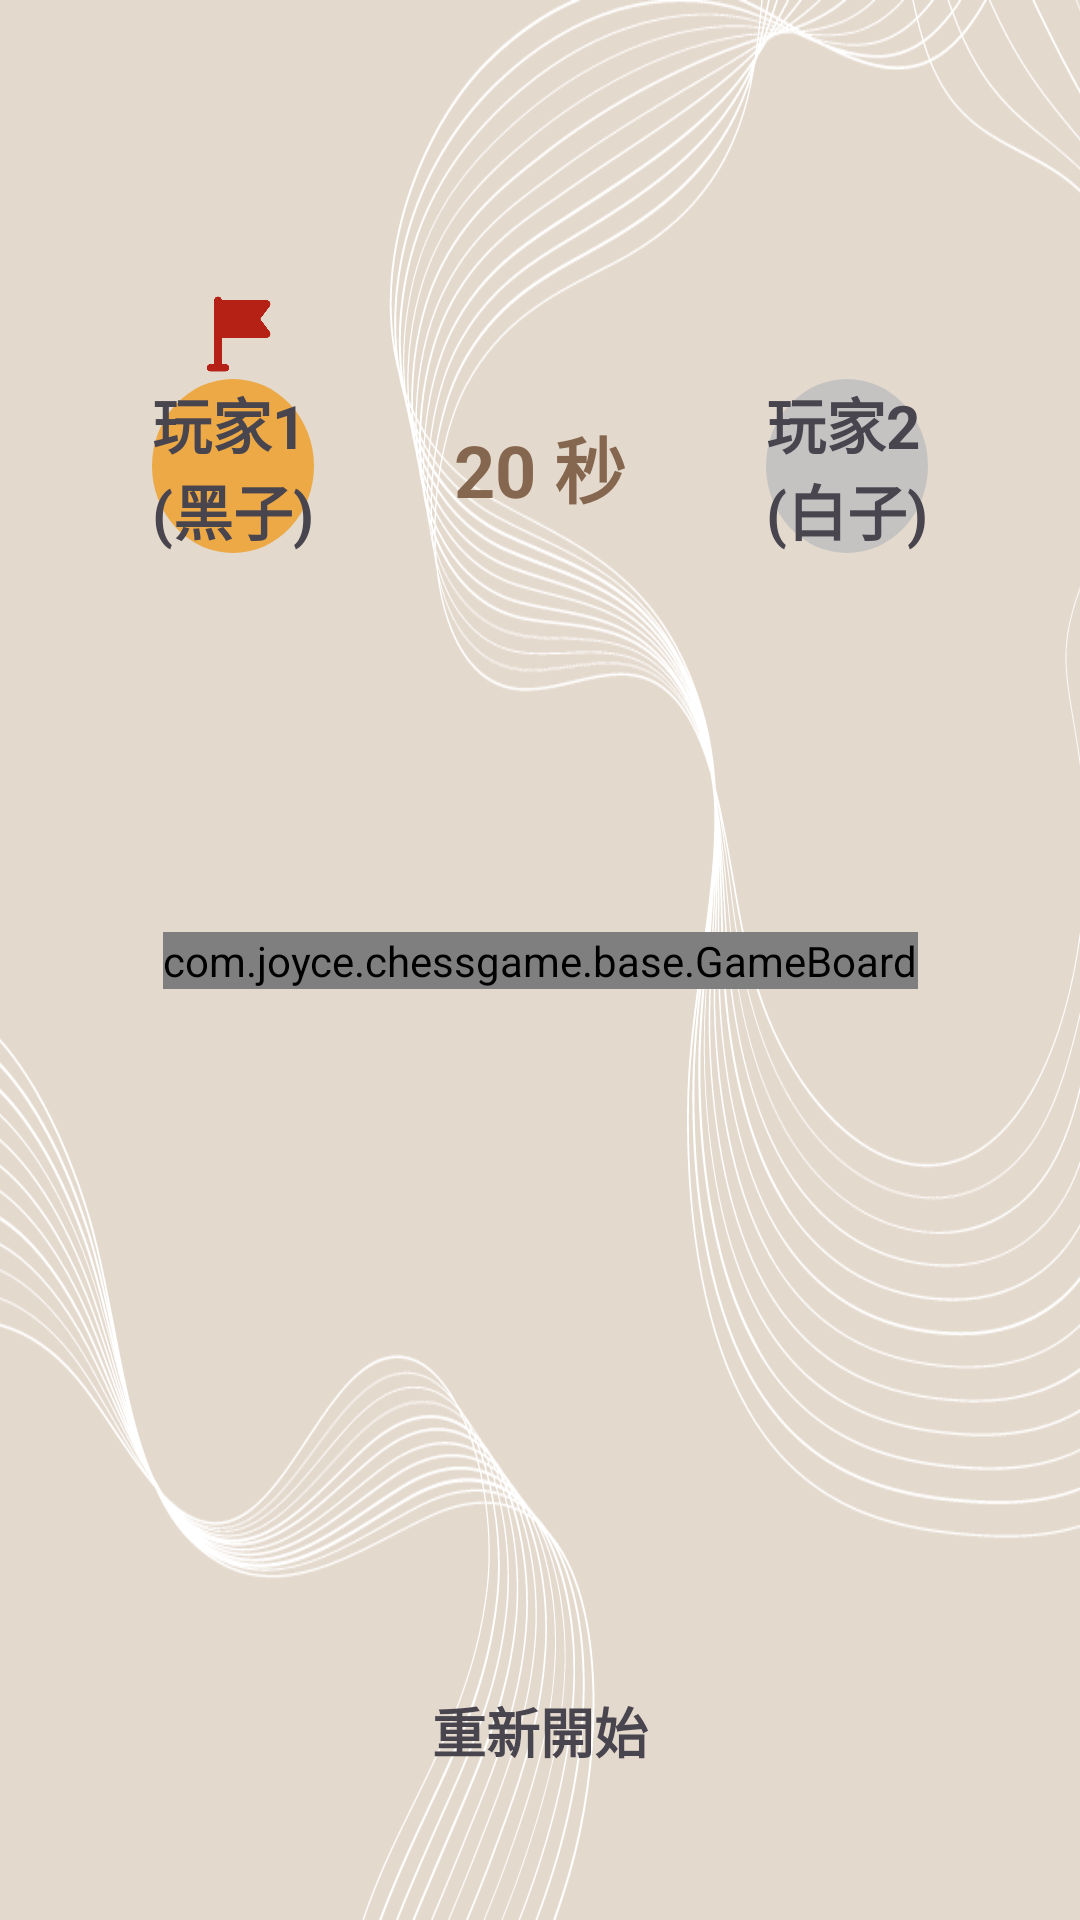

Icon click points for this 1080px x 1920px phone screenshot, format (x=x, y=y):
flag: (x=239, y=334)
